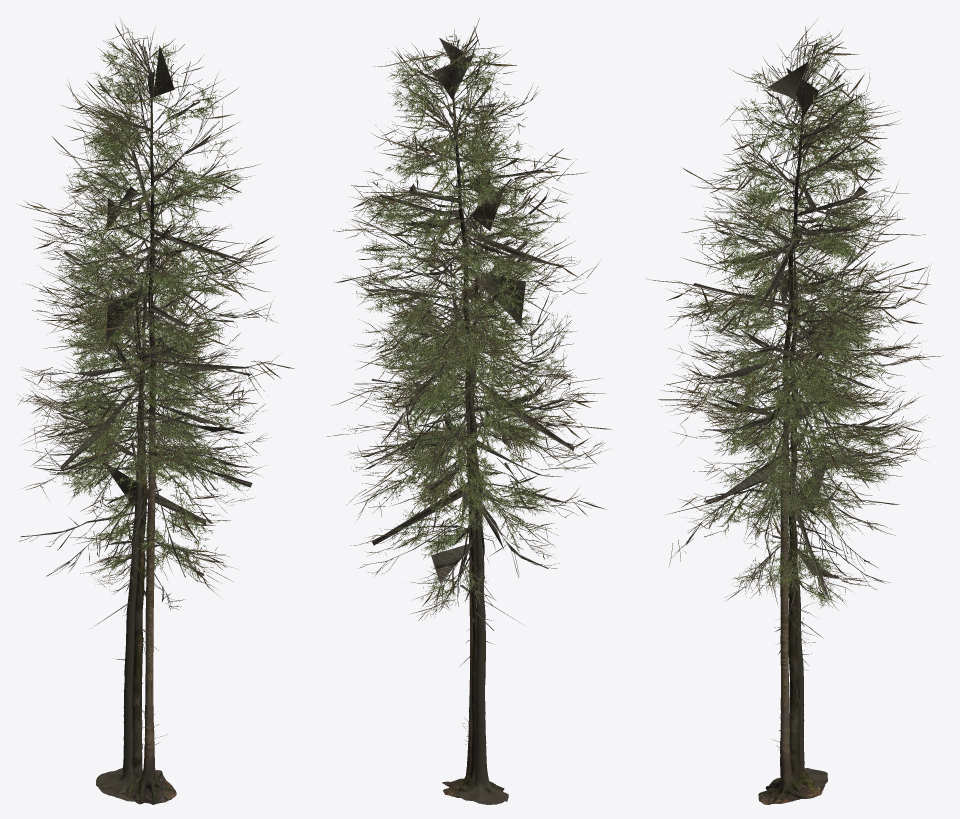
The model's file is fir_tree_01.glb.
3 views of the same model, side by side, from view 1: azimuth 30°, elevation 25°; view 2: azimuth 150°, elevation 25°; view 3: azimuth 270°, elevation 25° (orthographic). The views are drawn at different scales.
Parts seen in each view (by area): view 1: fir_tree_01_a_LOD0.003, fir_tree_01_a_LOD0.001, fir_tree_01_a_LOD0.002, fir_tree_01_c_LOD0, fir_tree_01_b_LOD0.002, fir_tree_01_a_LOD0; view 2: fir_tree_01_a_LOD0.003, fir_tree_01_a_LOD0.001, fir_tree_01_c_LOD0, fir_tree_01_b_LOD0.002, fir_tree_01_a_LOD0.002, fir_tree_01_a_LOD0; view 3: fir_tree_01_a_LOD0.003, fir_tree_01_a_LOD0.001, fir_tree_01_a_LOD0.002, fir_tree_01_b_LOD0.002, fir_tree_01_c_LOD0.
Boxes of the visible parts, x1,y1,x2,y2 form: fir_tree_01_a_LOD0.003: (18,19,294,609); fir_tree_01_a_LOD0.001: (19,36,263,610); fir_tree_01_a_LOD0.002: (117,79,176,804); fir_tree_01_c_LOD0: (96,258,149,801); fir_tree_01_b_LOD0.002: (113,289,156,800); fir_tree_01_a_LOD0: (95,489,162,712); fir_tree_01_a_LOD0.003: (327,18,611,620); fir_tree_01_a_LOD0.001: (348,34,590,630); fir_tree_01_c_LOD0: (454,244,508,804); fir_tree_01_b_LOD0.002: (443,278,504,800); fir_tree_01_a_LOD0.002: (442,70,501,793); fir_tree_01_a_LOD0: (437,474,519,680); fir_tree_01_a_LOD0.003: (646,19,943,645); fir_tree_01_a_LOD0.001: (681,41,922,637); fir_tree_01_a_LOD0.002: (758,87,809,804); fir_tree_01_b_LOD0.002: (769,282,825,798); fir_tree_01_c_LOD0: (789,256,827,789).
Bounding box in the file's own units: 6.75 × 18.98 × 6.72.
Materials: 6 (6 with a texture image).
